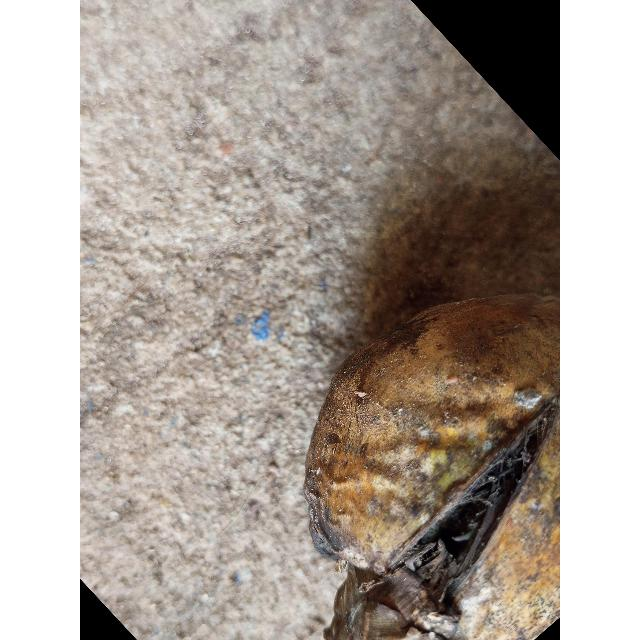damaged: (304, 294, 560, 640)
